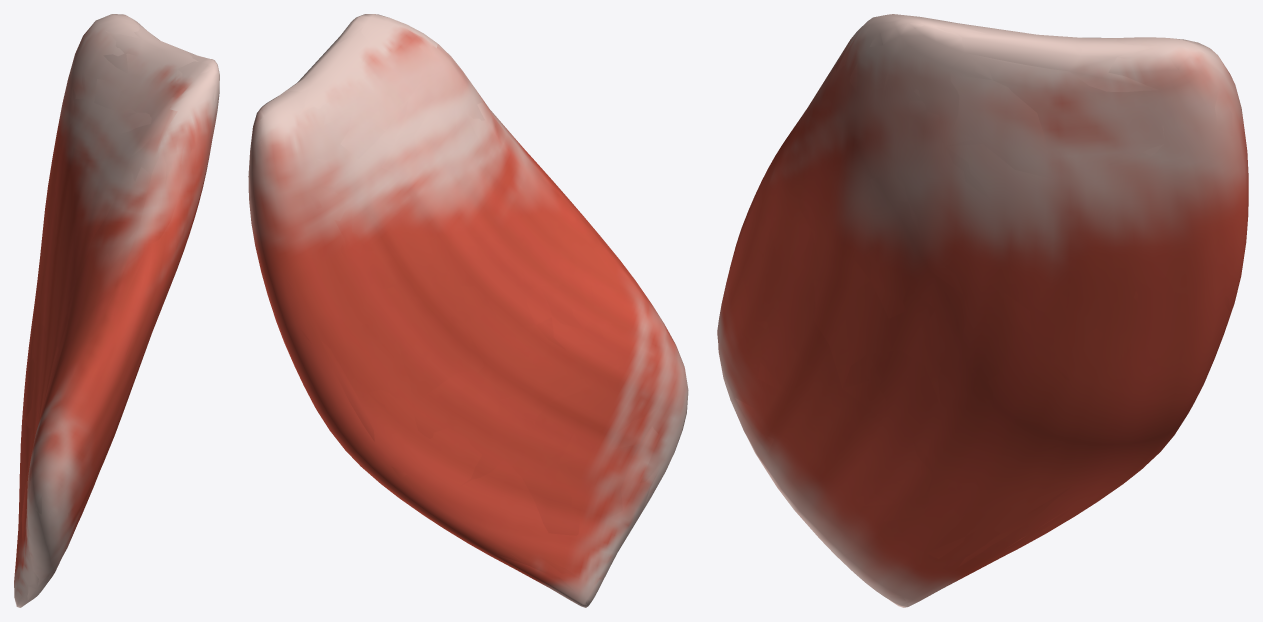
The model's file is R Gracilis.fbx.
3 views of the same model, side by side, from view 1: azimuth 30°, elevation 25°; view 2: azimuth 150°, elevation 25°; view 3: azimuth 270°, elevation 25° (orthographic). The views are drawn at different scales.
Parts seen in each view (by area): view 1: R Gracilis, R Gracilis low; view 2: R Gracilis, R Gracilis low; view 3: R Gracilis, R Gracilis low.
Part boxes in pixels (left/top/right/bottom): R Gracilis: left=14, top=14, right=219, bottom=607; R Gracilis low: left=15, top=14, right=219, bottom=605; R Gracilis: left=248, top=14, right=688, bottom=607; R Gracilis low: left=248, top=14, right=688, bottom=605; R Gracilis: left=717, top=14, right=1248, bottom=607; R Gracilis low: left=719, top=15, right=1244, bottom=607.
Size of the model in its own units: 8.97 by 17.3 by 11.42.
